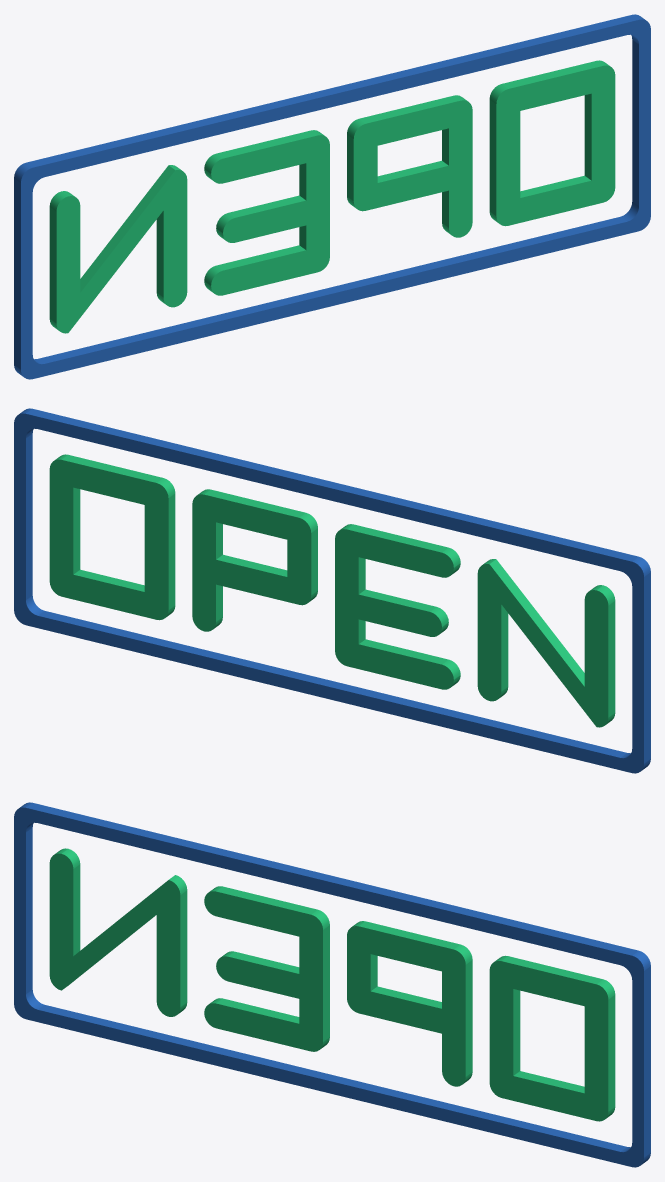
Rendered from Open_Chunky.obj.
3 renders of one model, top to bottom at view 1: azimuth 30°, elevation 25°; view 2: azimuth 150°, elevation 25°; view 3: azimuth 330°, elevation 25°, orthographic.
Bounding box in the file's own units: 53 × 17 × 1.
1 material, 1 textured.
